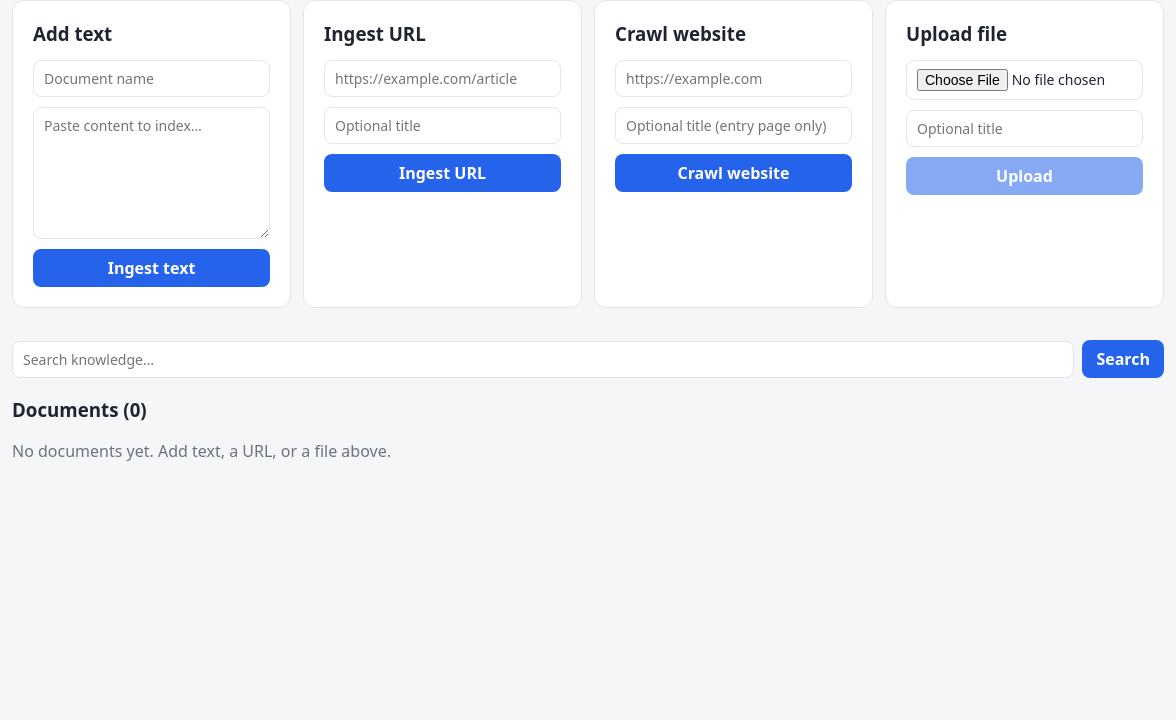
Scenario: KnowledgePage › shows the no-matches state for empty search results
Expected: the text "No documents yet. Add text, a URL, or a file above." is shown, x1=12 y1=440 x2=391 y2=462
Type "anything" into the field with placeholder "Search knowledge…" at (543, 359), box x1=12 y1=340 x2=1074 y2=378
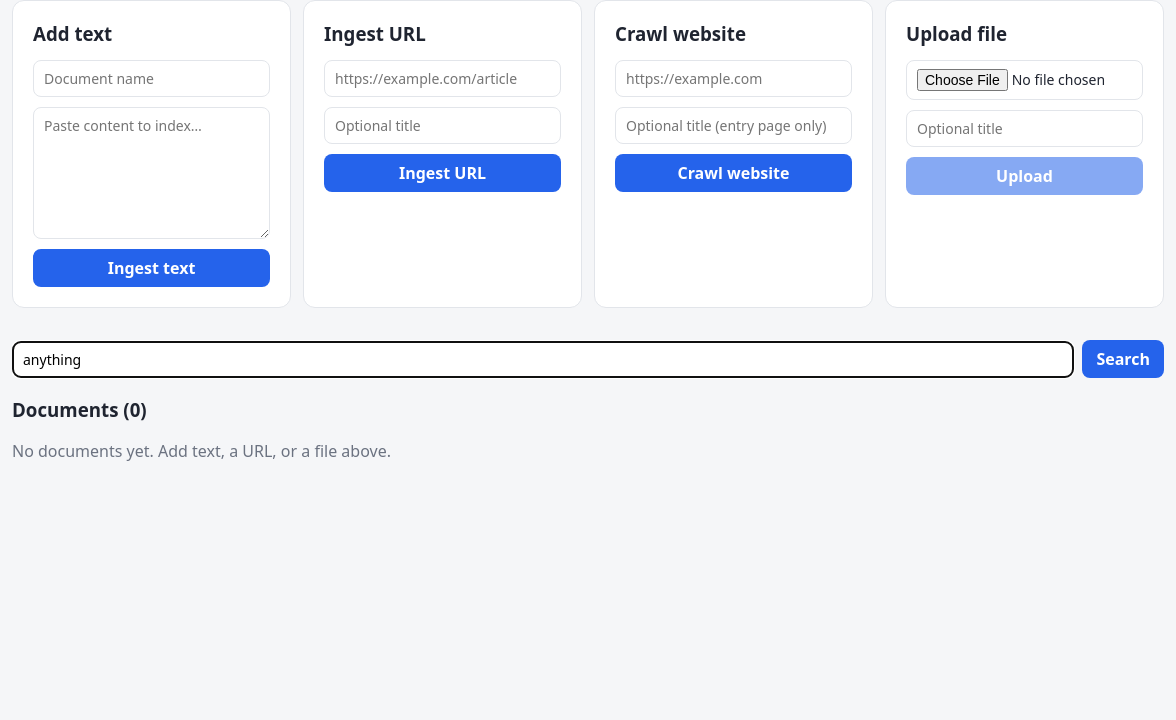
Click the button "Search" at (1123, 359), box x1=1082 y1=340 x2=1164 y2=378
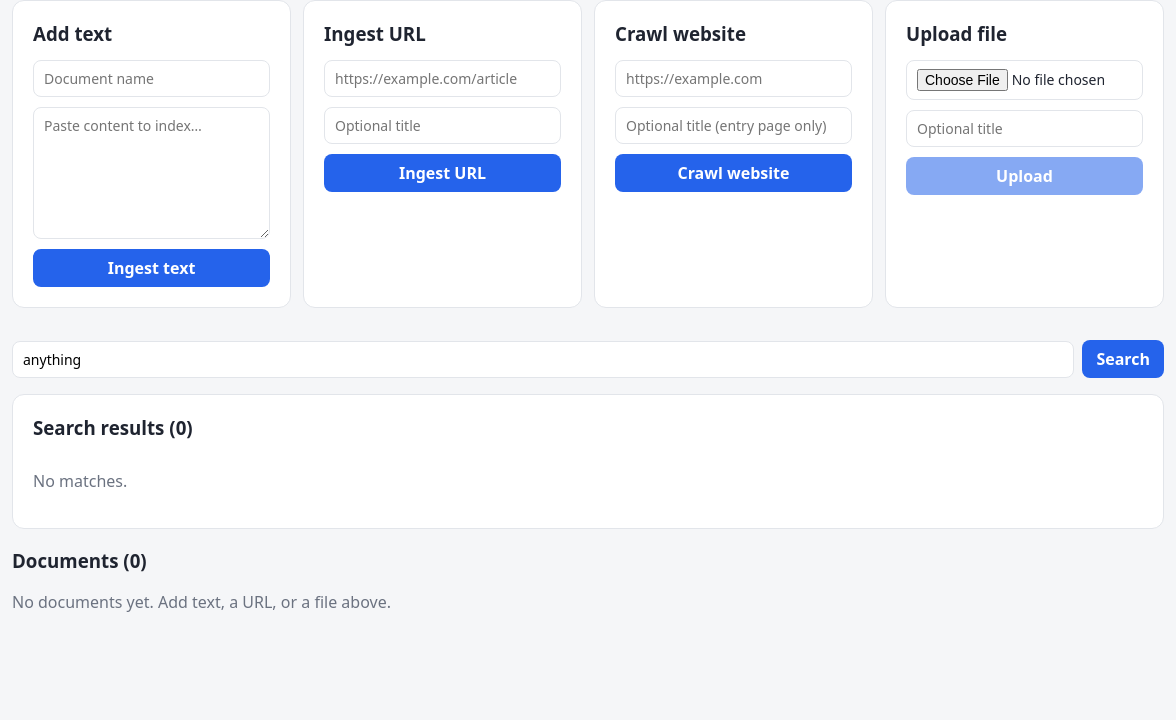
Expected: the heading "Search results (0)" is shown, x1=33 y1=415 x2=193 y2=440
Expected: the text "No matches." is shown, x1=33 y1=470 x2=127 y2=492
